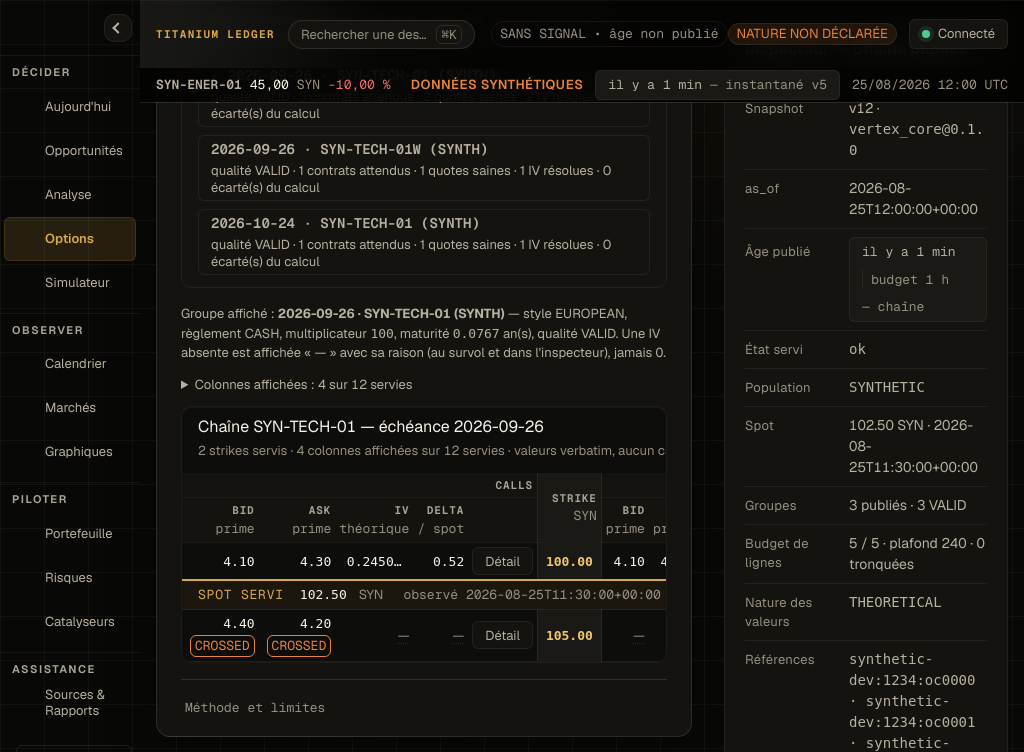
Test: Page Options — états › propose les DOUZE colonnes servies, et en affiche six par défaut
(page scrolled)
Click the heading "Colonnes affichées : 4 sur 12 servies" at (304, 384), box [195,376,412,393]
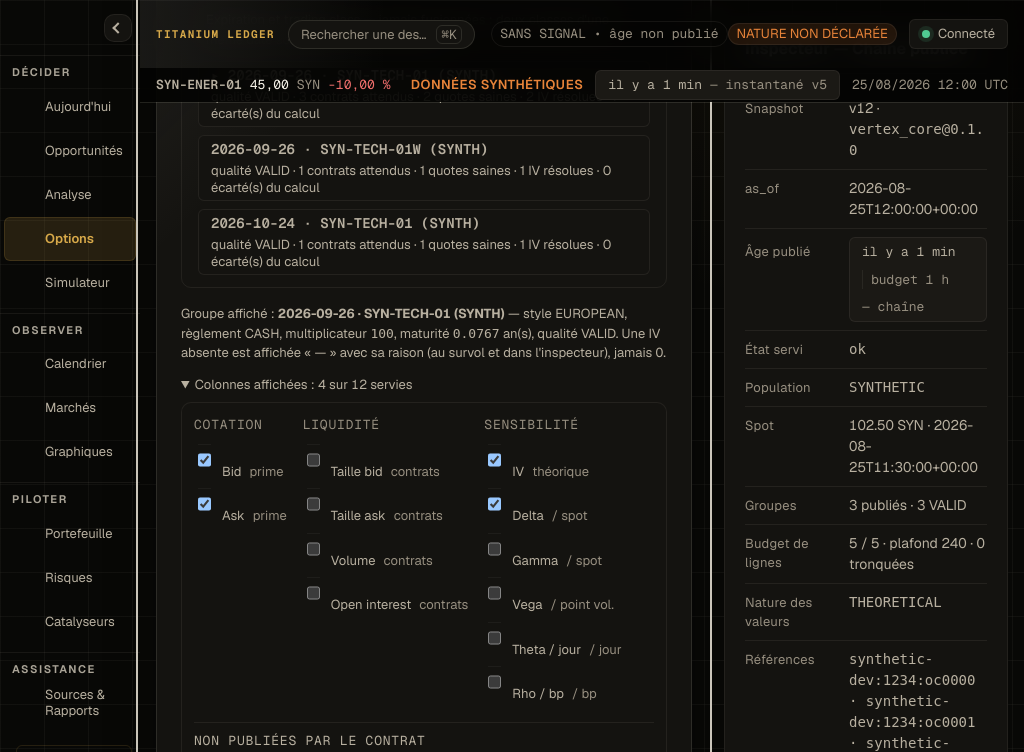
Expected: the checkbox labelled "Volume contrats" is shown, [307,533,320,565]
Expected: the checkbox labelled "Open interest contrats" is shown, [307,577,320,609]
Expected: the checkbox labelled "Gamma / spot" is shown, [488,533,501,565]
